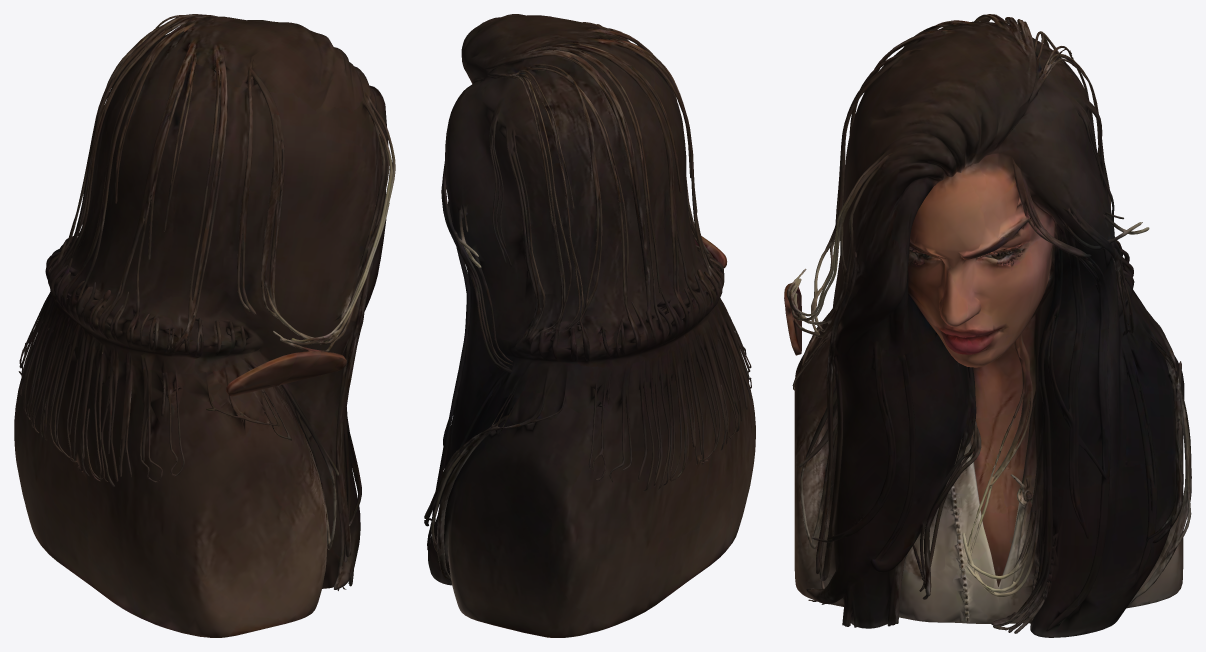
Rendered from anto.glb.
3 views of the same model, side by side, from view 1: azimuth 30°, elevation 25°; view 2: azimuth 150°, elevation 25°; view 3: azimuth 270°, elevation 25° (orthographic). The views are drawn at different scales.
Visible parts, largest first — view 1: tripo_node_e05d6461-d501-419d-9fe9-a965bbfbb01a; view 2: tripo_node_e05d6461-d501-419d-9fe9-a965bbfbb01a; view 3: tripo_node_e05d6461-d501-419d-9fe9-a965bbfbb01a.
Part boxes in pixels (box(x1,y1,x2,y2)): tripo_node_e05d6461-d501-419d-9fe9-a965bbfbb01a: box(14, 14, 395, 637); tripo_node_e05d6461-d501-419d-9fe9-a965bbfbb01a: box(424, 14, 755, 637); tripo_node_e05d6461-d501-419d-9fe9-a965bbfbb01a: box(784, 14, 1191, 637).
Bounding box in the file's own units: 0.5453 × 0.9794 × 0.6487.
1 material, 1 textured.
